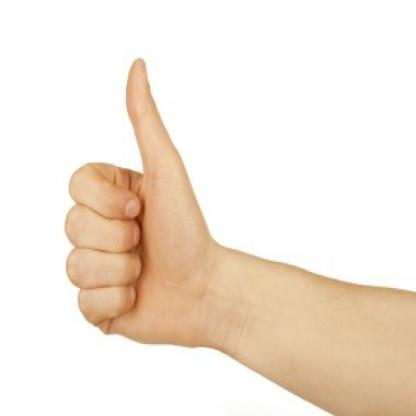thumb_up: (58, 52, 214, 350)
